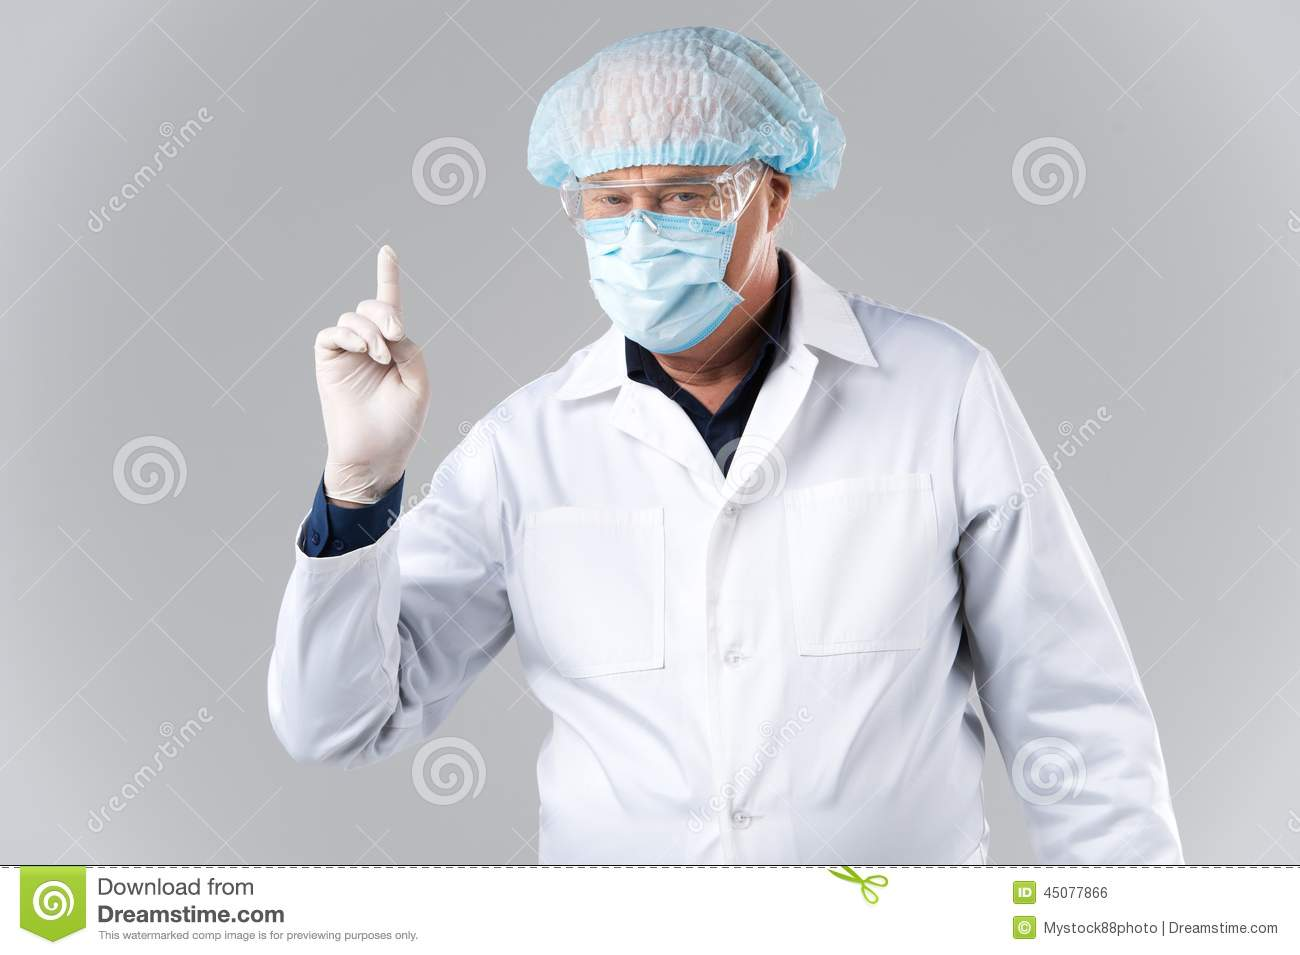mask: (572, 218, 736, 369)
